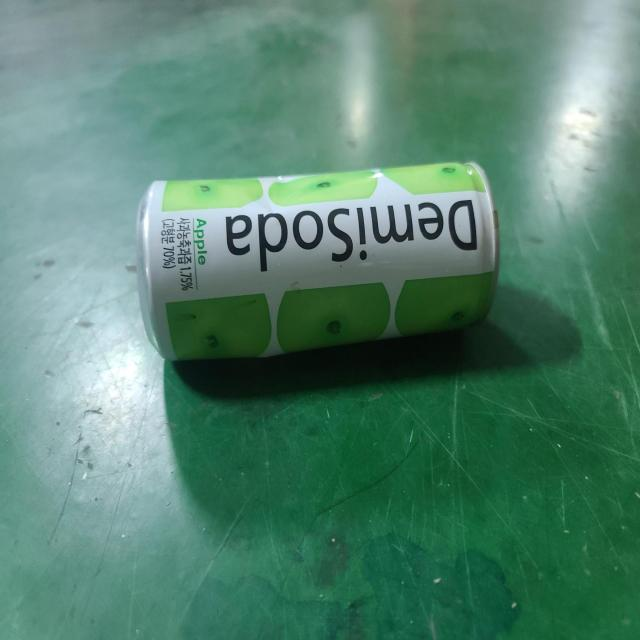can: (136, 162, 500, 360)
